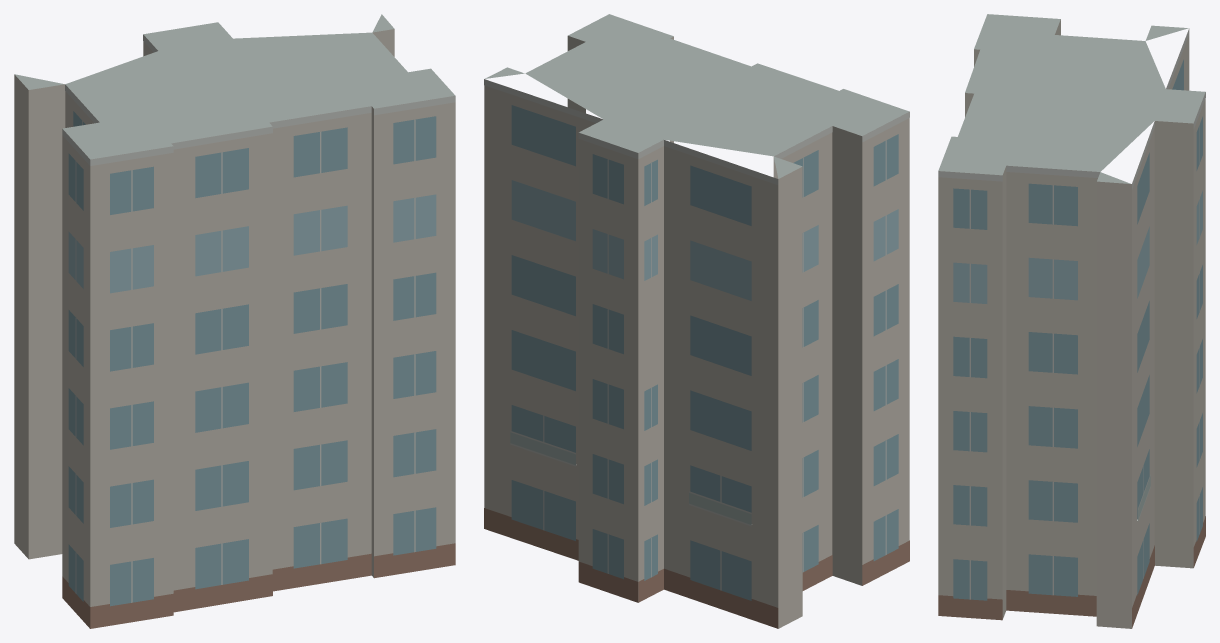
Rendered from survey-upis-32745031.glb.
3 views of the same model, side by side, from view 1: azimuth 30°, elevation 25°; view 2: azimuth 150°, elevation 25°; view 3: azimuth 270°, elevation 25° (orthographic). The views are drawn at different scales.
Visible parts, largest first — view 1: survey-upis-32745031.tmp; view 2: survey-upis-32745031.tmp; view 3: survey-upis-32745031.tmp.
Boxes of the visible parts, box(x1,y1,x2,y2) form: survey-upis-32745031.tmp: box(14, 14, 455, 628); survey-upis-32745031.tmp: box(484, 14, 909, 628); survey-upis-32745031.tmp: box(938, 14, 1205, 628).
Bounding box in the file's own units: 14.27 × 17.4 × 9.49.
